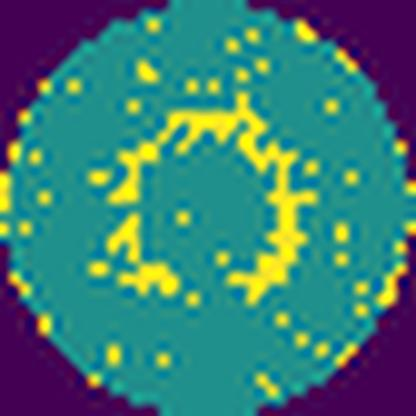Donut: (72, 98, 319, 318)
